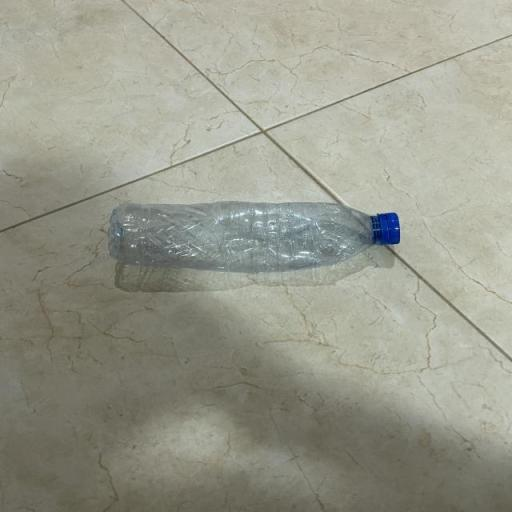plastic: (101, 197, 404, 274)
